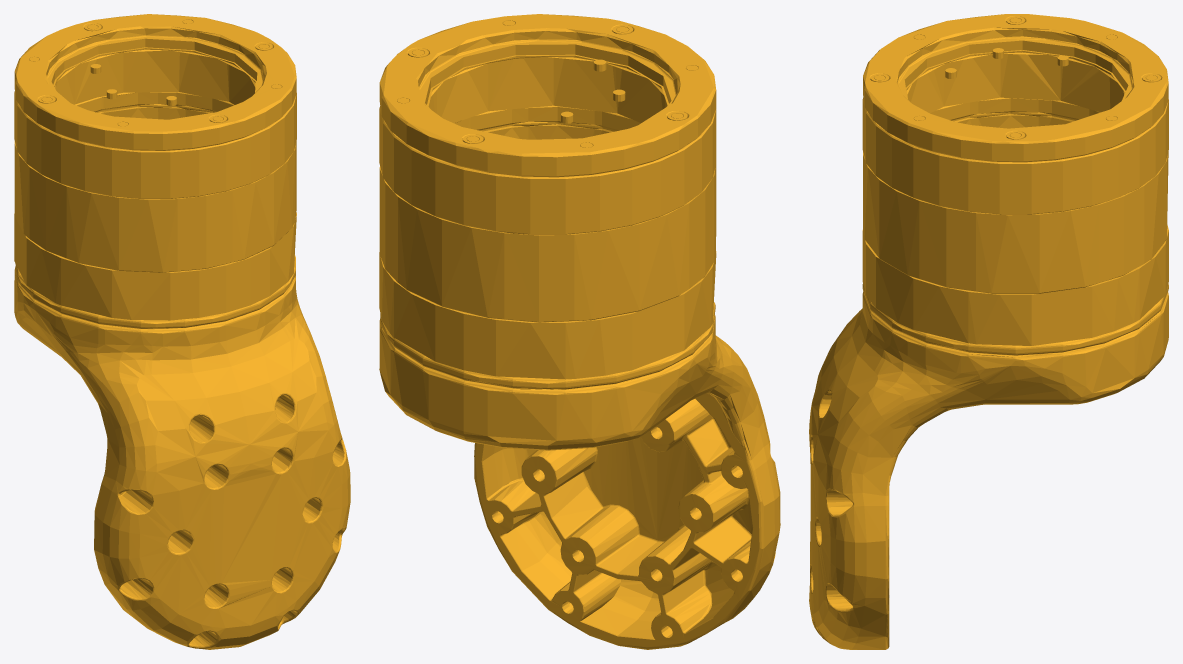
Rendered from IgusReBelLink5.dae.
The picture shows the model from 3 angles, left to right: view 1: azimuth 30°, elevation 25°; view 2: azimuth 150°, elevation 25°; view 3: azimuth 270°, elevation 25°; orthographic projection. The views are drawn at different scales.
Visible parts, largest first — view 1: IGUSReBelLink6; view 2: IGUSReBelLink6; view 3: IGUSReBelLink6.
Part boxes in pixels (box(x1,y1,x2,y2)): IGUSReBelLink6: box(14, 14, 350, 649); IGUSReBelLink6: box(379, 14, 780, 649); IGUSReBelLink6: box(809, 14, 1168, 649).
Size of the model in its own units: 0.08 by 0.094 by 0.1608.
